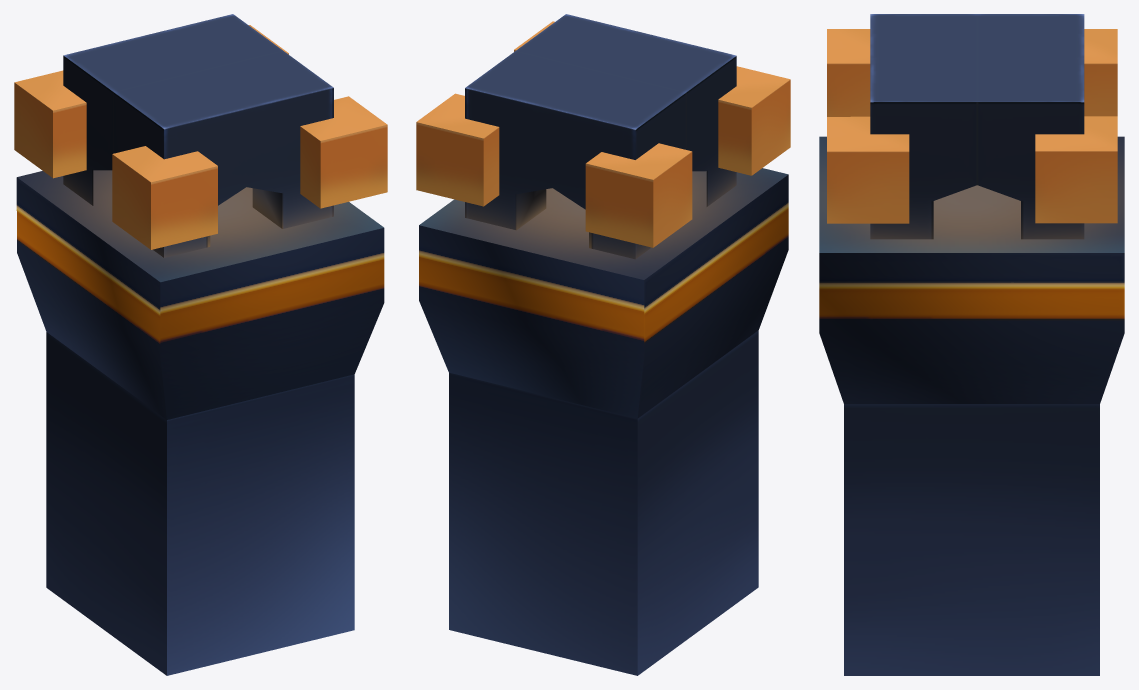
3 views of the same model, side by side, from view 1: azimuth 30°, elevation 25°; view 2: azimuth 150°, elevation 25°; view 3: azimuth 270°, elevation 25° (orthographic). The views are drawn at different scales.
Visible parts, largest first — view 1: anObstacle01; view 2: anObstacle01; view 3: anObstacle01.
Part boxes in pixels (x1,y1,x2,y2): anObstacle01: [14, 14, 387, 675]; anObstacle01: [416, 14, 790, 675]; anObstacle01: [819, 14, 1124, 675].
Size of the model in its own units: 1.13 by 2.44 by 1.19.
1 material, 1 textured.
